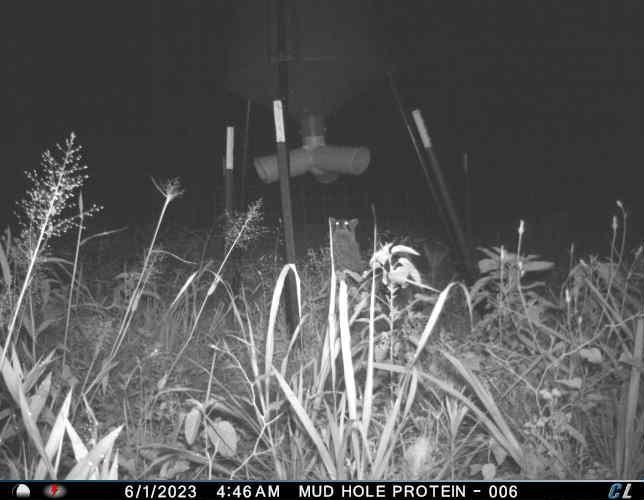Raccoon: (326, 211, 366, 268)
